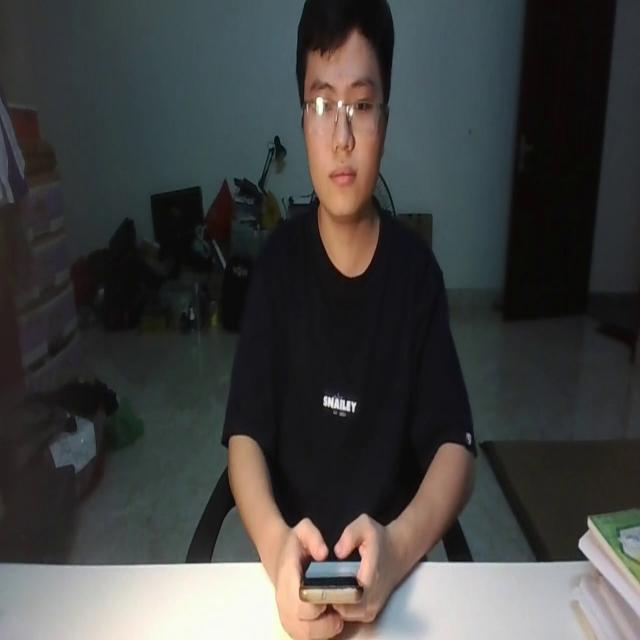phone: (298, 580, 364, 608)
student: (224, 0, 478, 640)
